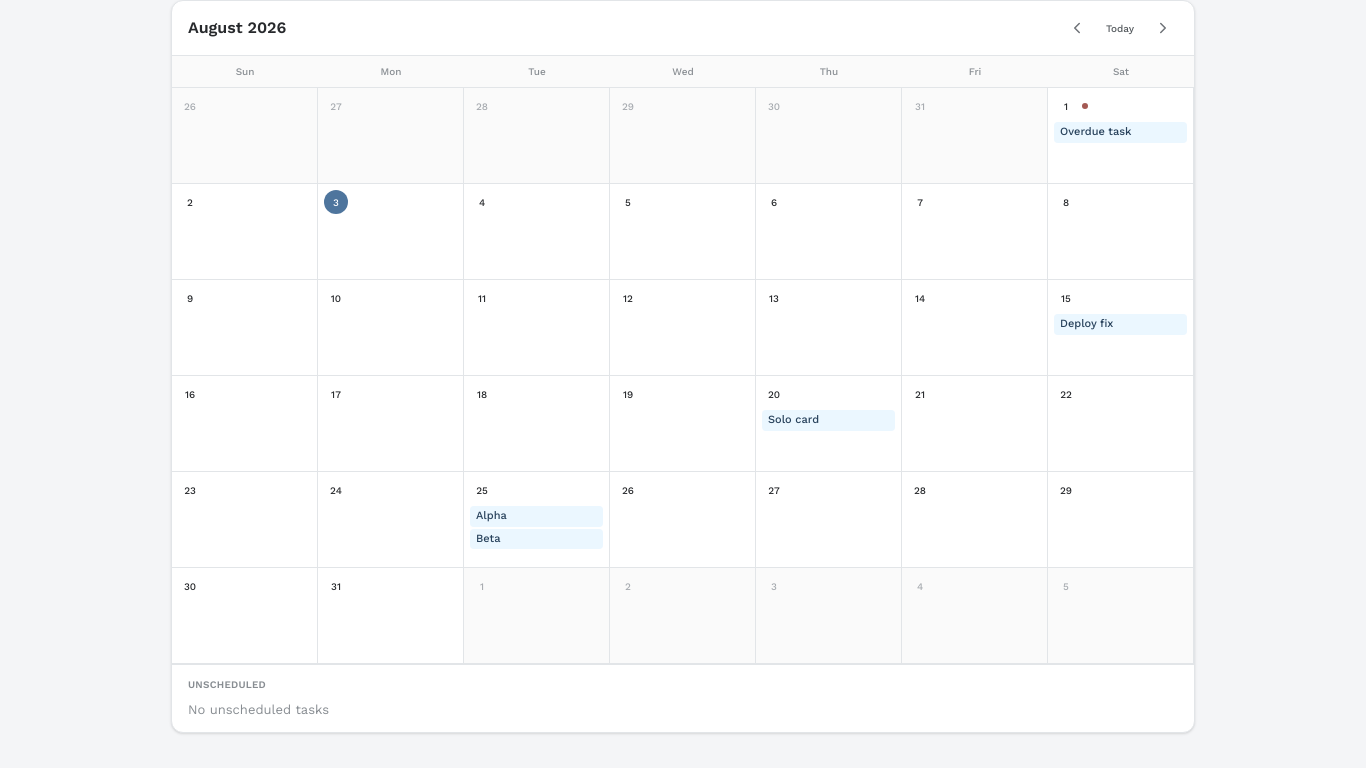
Test: CalendarView display › defaults to current month with prev/next/Today navigation
The image size is (1366, 768).
Expected: the heading "August 2026" is shown, left=188, top=16, right=286, bottom=40
Click the button named "next" at (1163, 28), box left=1148, top=13, right=1178, bottom=43
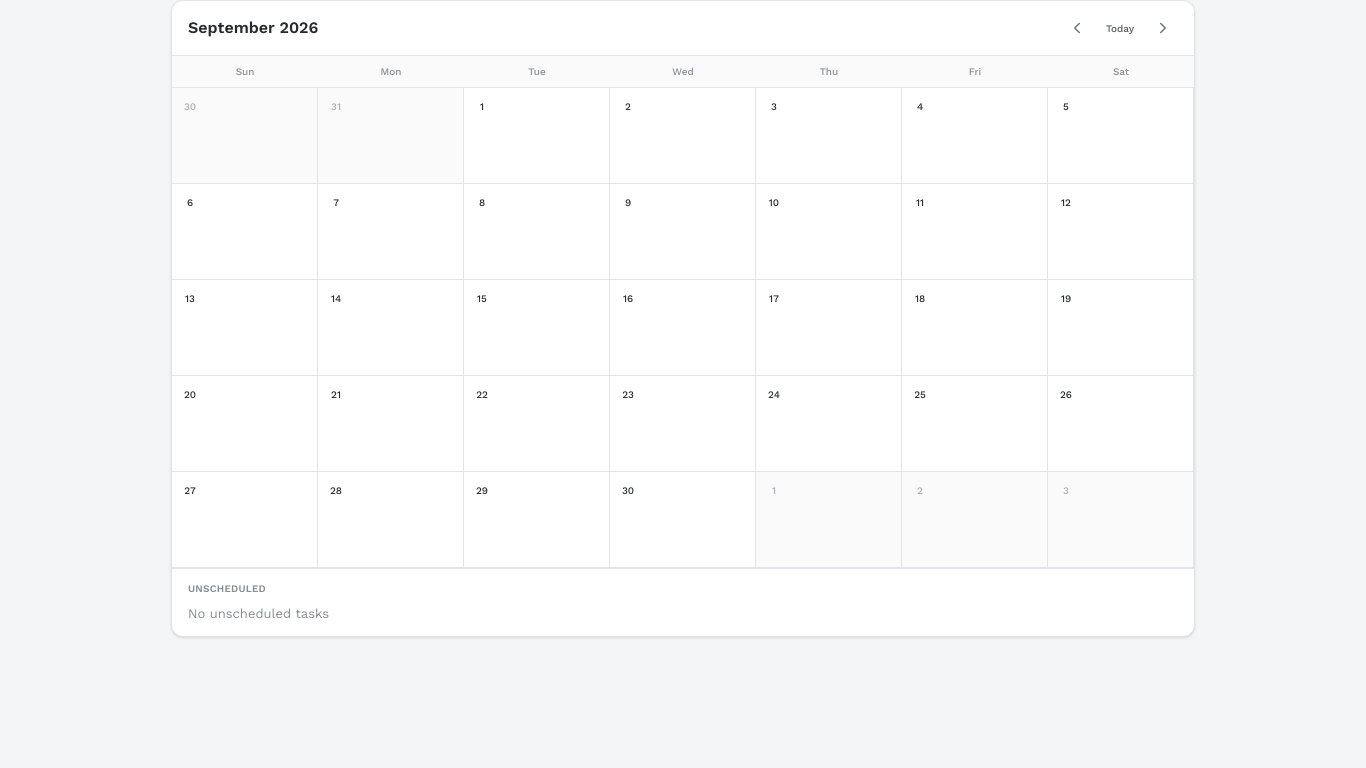
Expected: the heading "September 2026" is shown, left=188, top=16, right=318, bottom=40
Click the button "Today" at (1120, 28), box left=1096, top=16, right=1144, bottom=40
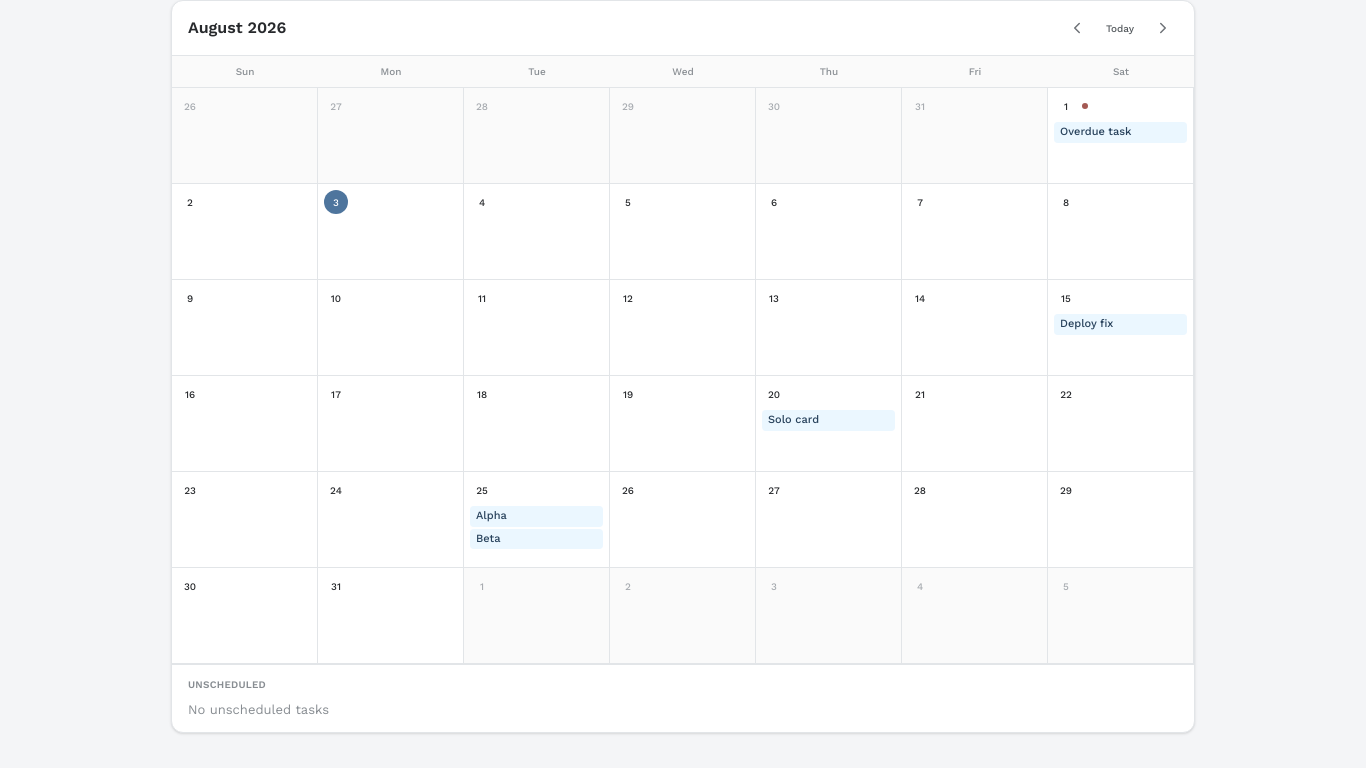
Expected: the heading "August 2026" is shown, left=188, top=16, right=286, bottom=40
